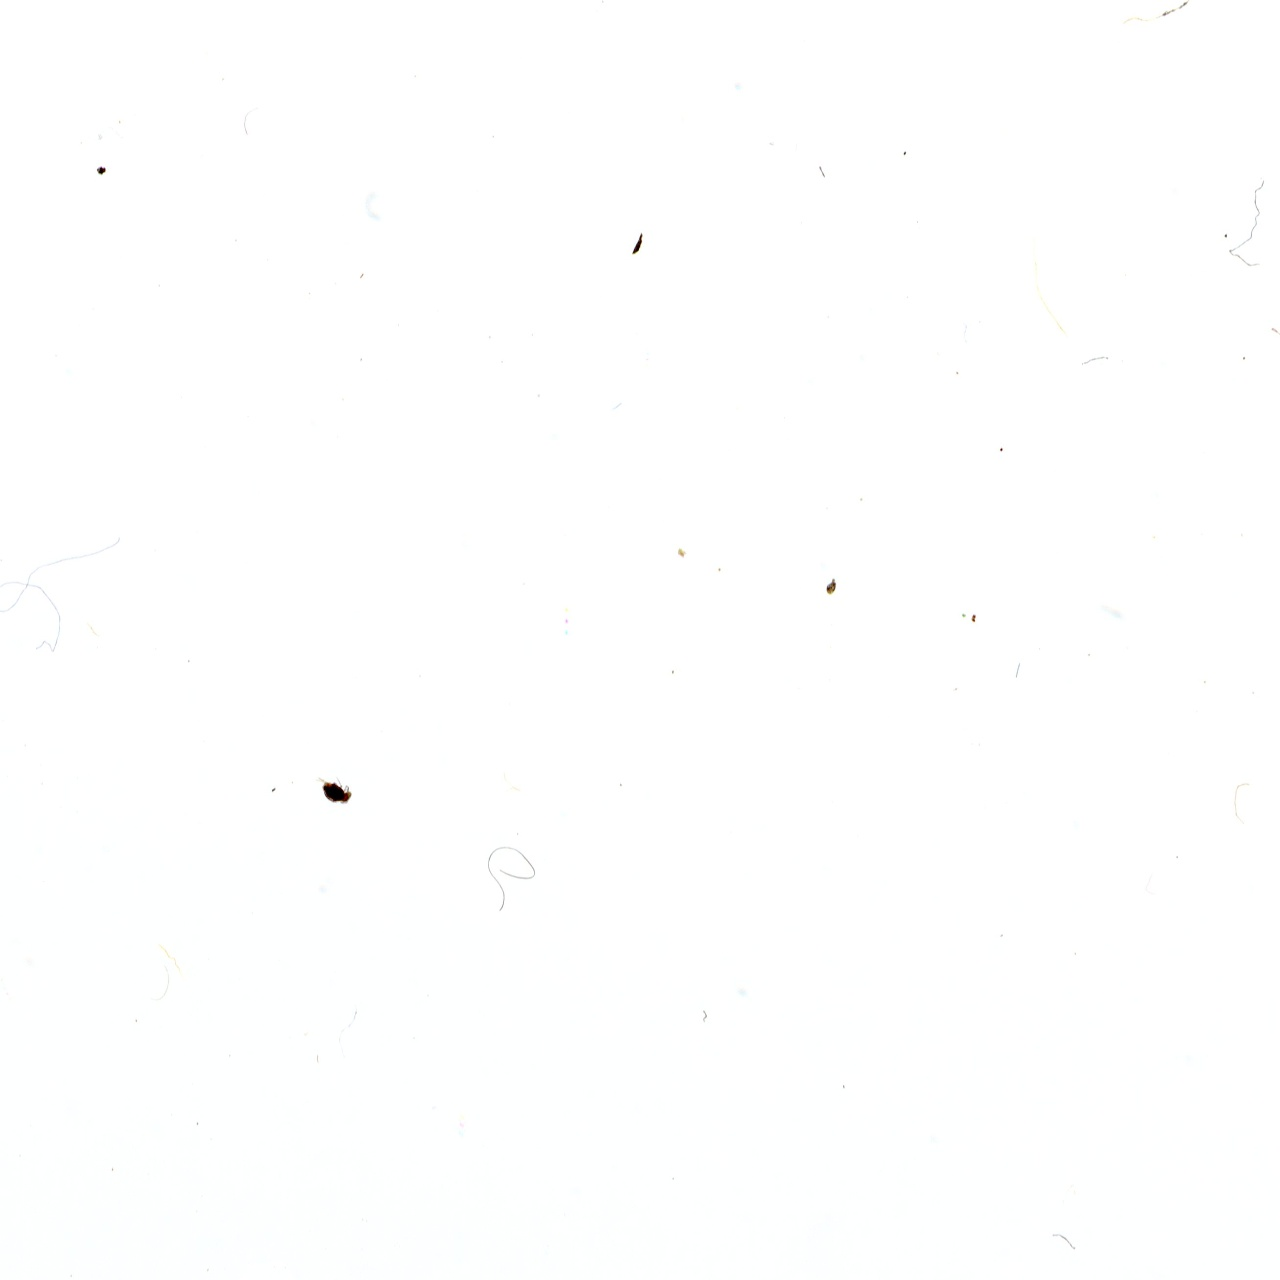arthropod: (313, 775, 355, 806)
